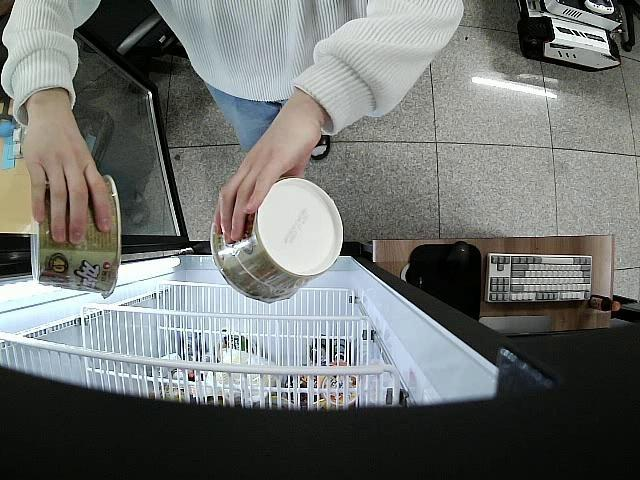03_chapagetti_L: (210, 178, 342, 305), (32, 174, 121, 299)
